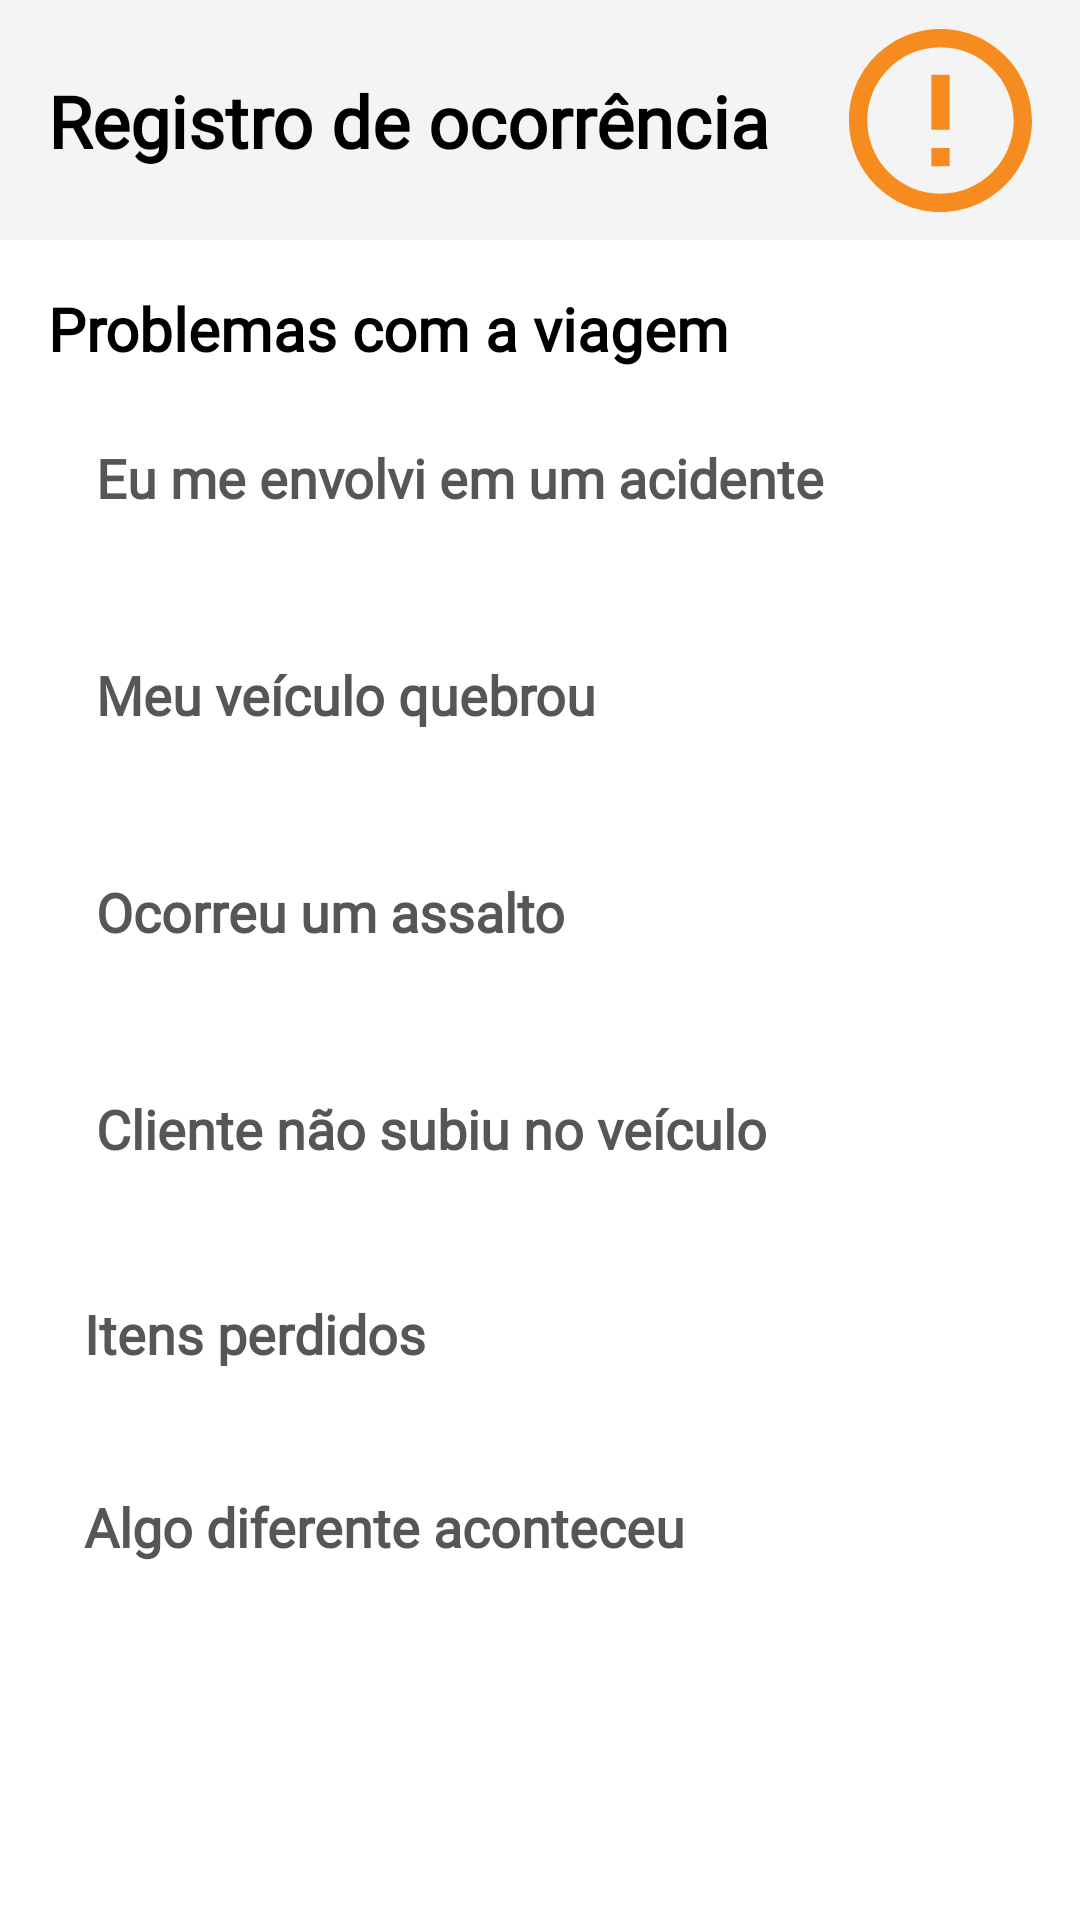

Point at icon controls on the screen. Image size 1080×1920, points as point (x, y).
ocorrencia: point (940, 120)
